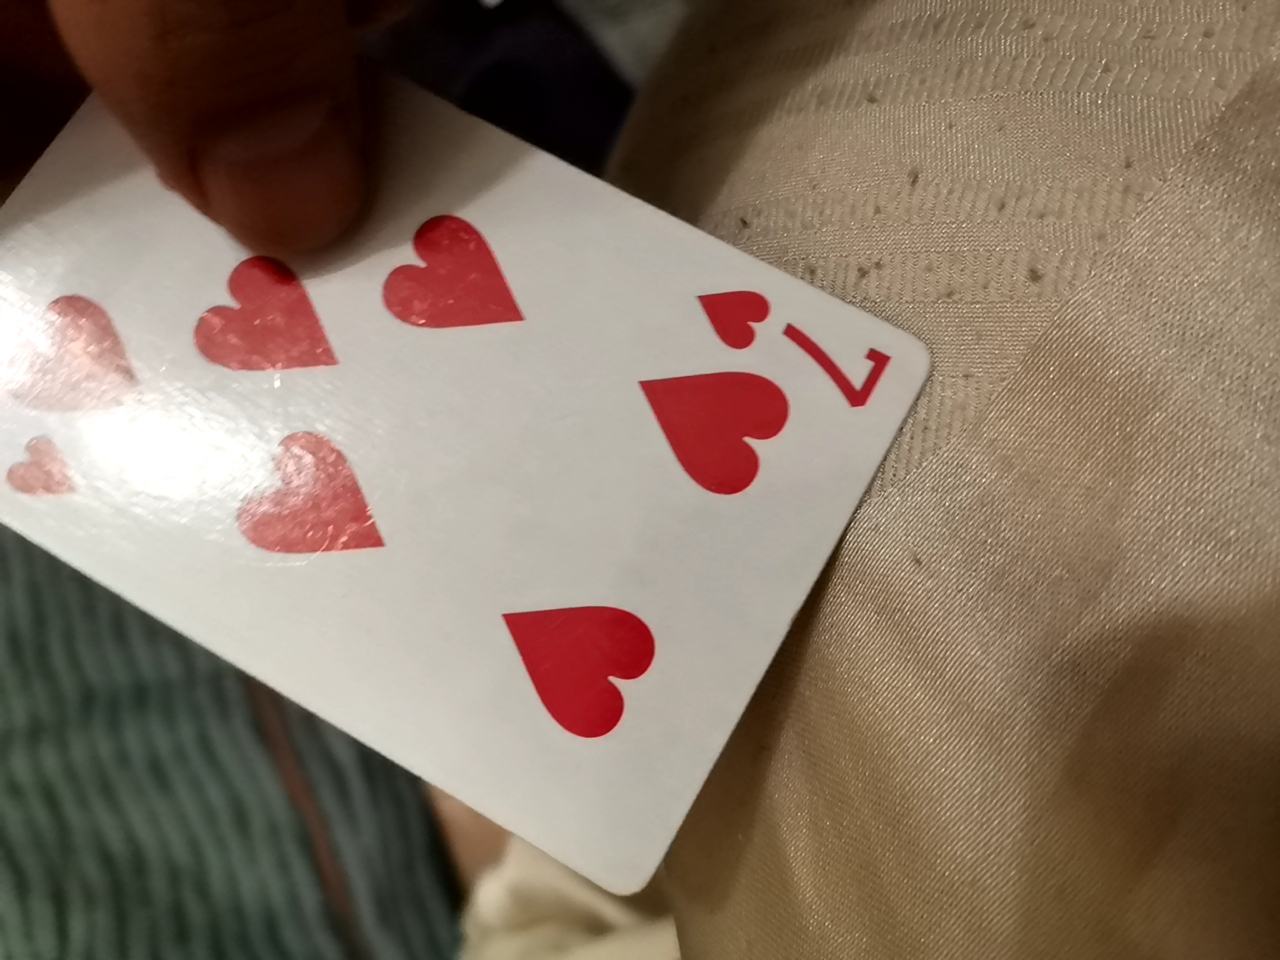hx 7: (6, 125, 962, 908)
